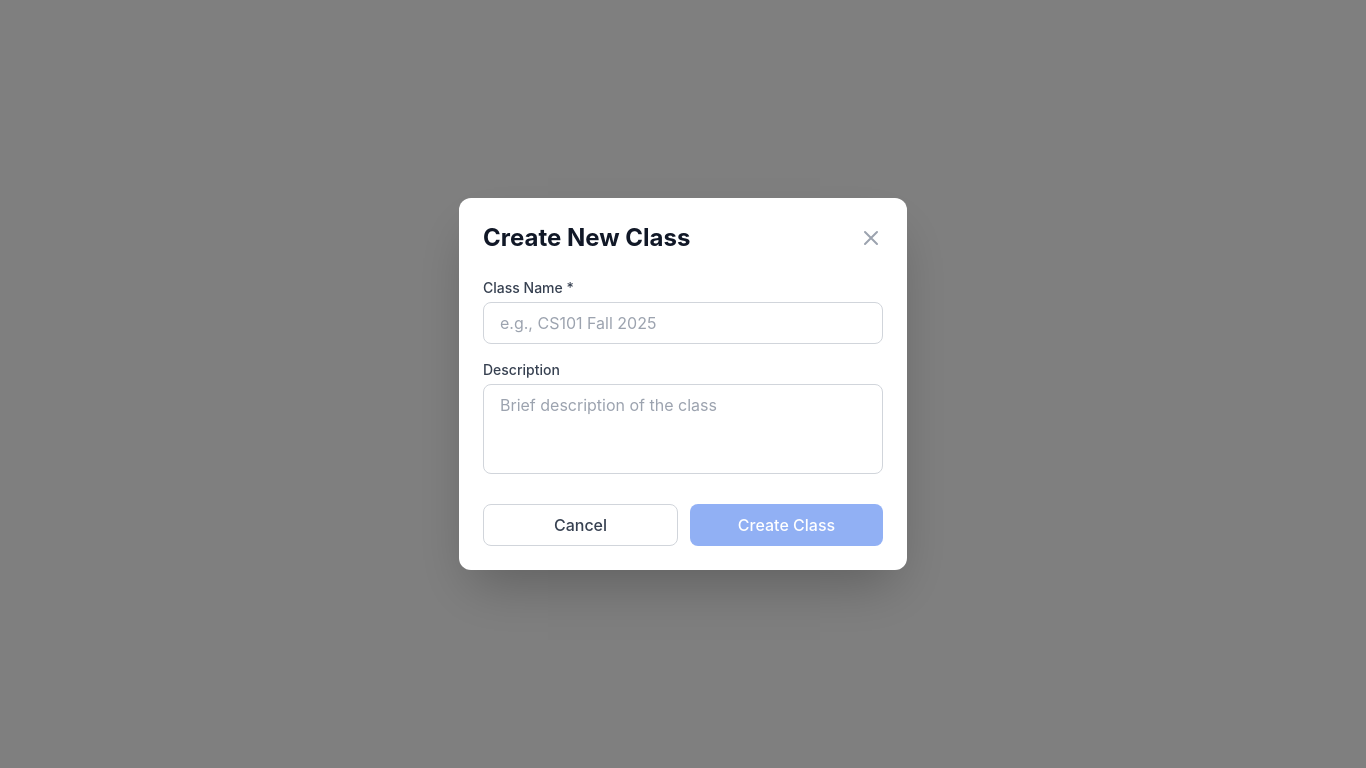
Test: CreateClassModal › shows loading state while creating class
Type "CS101" into the field labelled "Class Name *" at (683, 323), box [483,302,883,344]
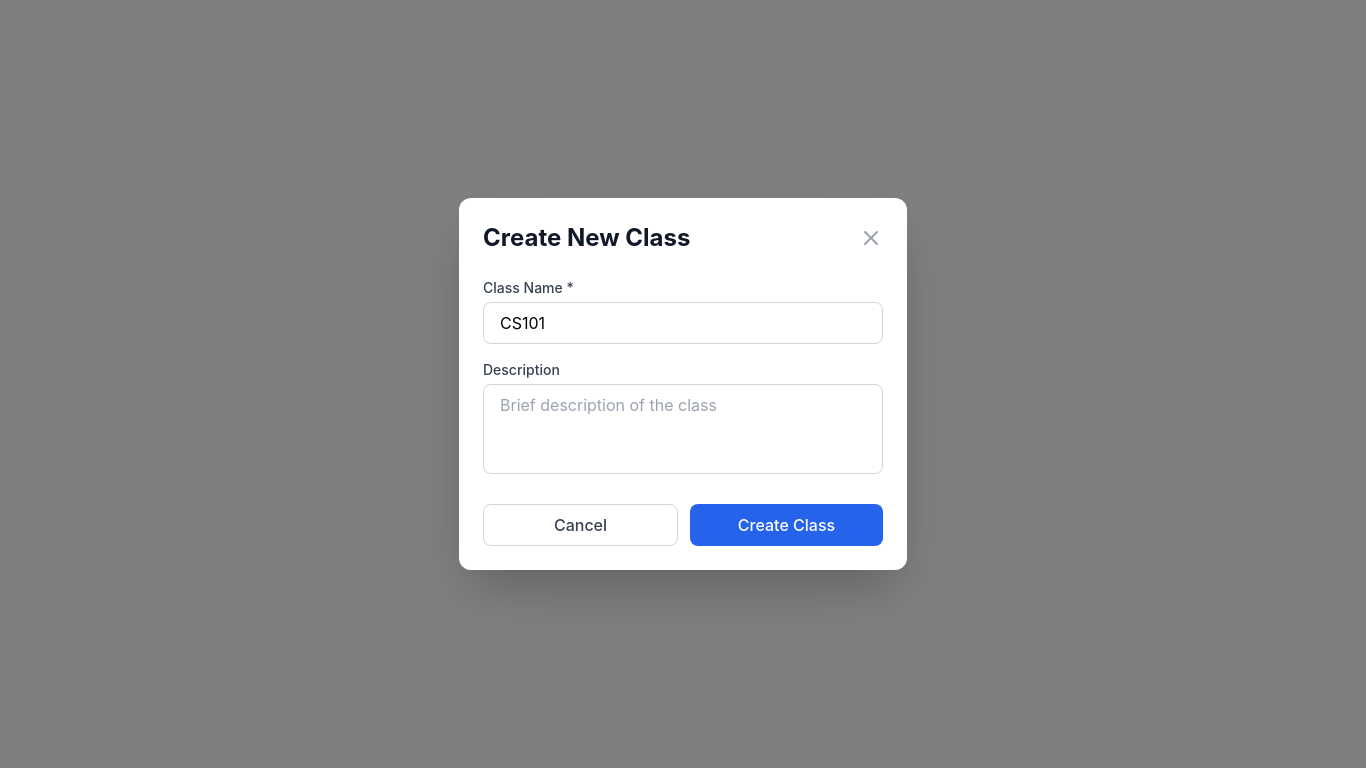
Click the button "Create Class" at (786, 525), box [690,504,883,546]
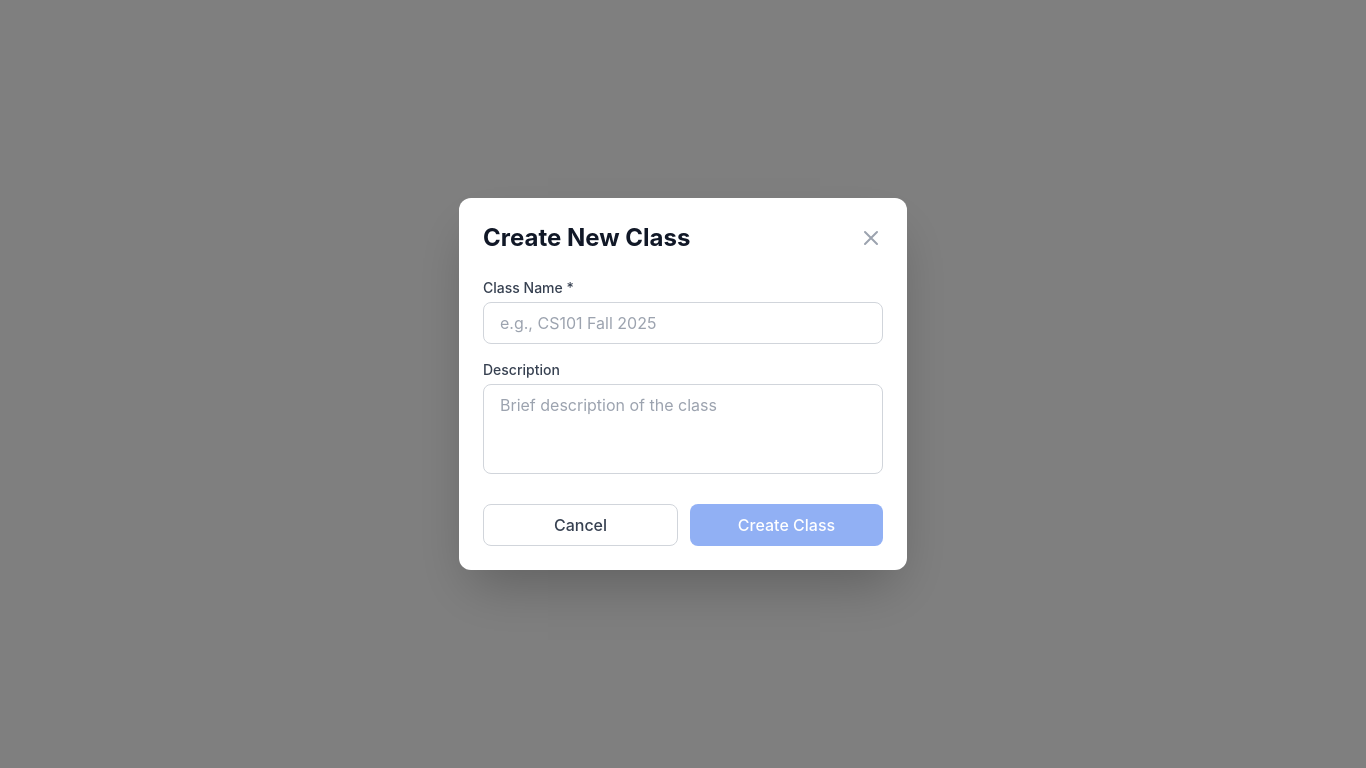
Check: the button named "creating" is disabled, box [690,504,883,546]
